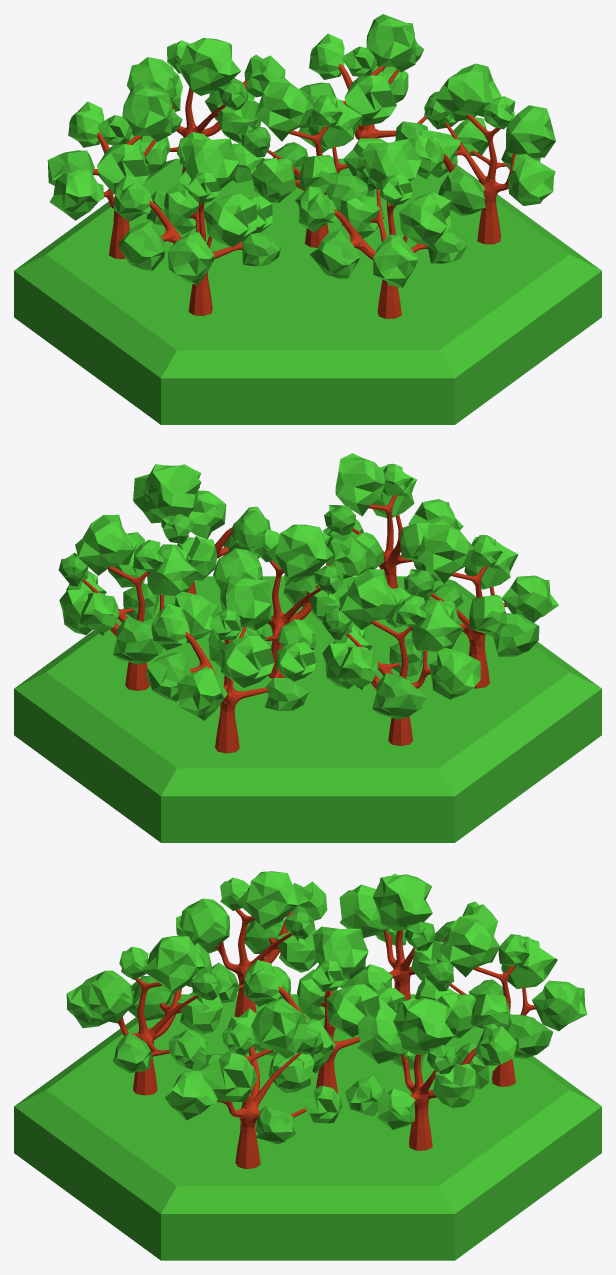
Rendered from tile_beveled_with_trees.fbx.
3 views of the same model, one above another, from view 1: azimuth 30°, elevation 25°; view 2: azimuth 150°, elevation 25°; view 3: azimuth 270°, elevation 25° (orthographic).
Visible parts, largest first — view 1: Cylinder, tree_leaf1.004, tree_leaf1.002, tree_leaf1.006, tree_leaf1.005, tree_leaf2.006, tree_leaf2.002, tree_leaf2.005, tree_leaf2.001, tree_leaf1.001, tree_leaf1.003, tree_leaf1.007 (+17 smaller); view 2: Cylinder, tree_leaf1.004, tree_leaf1.006, tree_leaf1.003, tree_leaf1.007, tree_leaf1.002, tree_leaf2.003, tree_leaf1.005, tree_leaf2.004, tree_leaf2.007, tree_leaf1.001, tree_leaf2.001 (+16 smaller); view 3: Cylinder, tree_leaf1.003, tree_leaf2.002, tree_leaf2.005, tree_leaf2.007, tree_leaf1.002, tree_leaf2.001, tree_leaf1.007, tree_leaf2.006, tree_leaf1.001, tree_leaf2.003, tree_leaf1.006 (+16 smaller).
Part boxes in pixels (x1,y1,x2,y2): Cylinder: [14, 158, 601, 424]; tree_leaf1.004: [50, 83, 172, 220]; tree_leaf1.002: [412, 63, 555, 205]; tree_leaf1.006: [113, 138, 239, 285]; tree_leaf1.005: [295, 139, 421, 287]; tree_leaf2.006: [164, 172, 272, 247]; tree_leaf2.002: [420, 96, 555, 177]; tree_leaf2.005: [341, 175, 451, 246]; tree_leaf2.001: [232, 95, 363, 202]; tree_leaf1.001: [255, 78, 387, 194]; tree_leaf1.003: [172, 38, 285, 111]; tree_leaf1.007: [298, 14, 415, 152]; Cylinder: [14, 576, 601, 842]; tree_leaf1.004: [338, 569, 480, 699]; tree_leaf1.006: [417, 520, 558, 636]; tree_leaf1.003: [151, 575, 271, 720]; tree_leaf1.007: [75, 514, 218, 643]; tree_leaf1.002: [145, 464, 270, 548]; tree_leaf2.003: [208, 610, 316, 687]; tree_leaf1.005: [335, 453, 463, 563]; tree_leaf2.004: [322, 595, 463, 688]; tree_leaf2.007: [59, 539, 200, 635]; tree_leaf1.001: [215, 524, 365, 588]; tree_leaf2.001: [213, 529, 349, 650]; Cylinder: [14, 994, 601, 1260]; tree_leaf1.003: [439, 914, 587, 1030]; tree_leaf2.002: [202, 1023, 342, 1123]; tree_leaf2.005: [81, 946, 222, 1068]; tree_leaf2.007: [357, 997, 475, 1129]; tree_leaf1.002: [165, 998, 309, 1120]; tree_leaf2.001: [297, 961, 405, 1037]; tree_leaf1.007: [392, 998, 516, 1070]; tree_leaf2.006: [179, 877, 317, 1003]; tree_leaf1.001: [243, 926, 368, 1073]; tree_leaf2.003: [415, 934, 557, 1038]; tree_leaf1.006: [176, 871, 327, 953].
Size of the model in its own units: 17.32 by 8.33 by 20.
